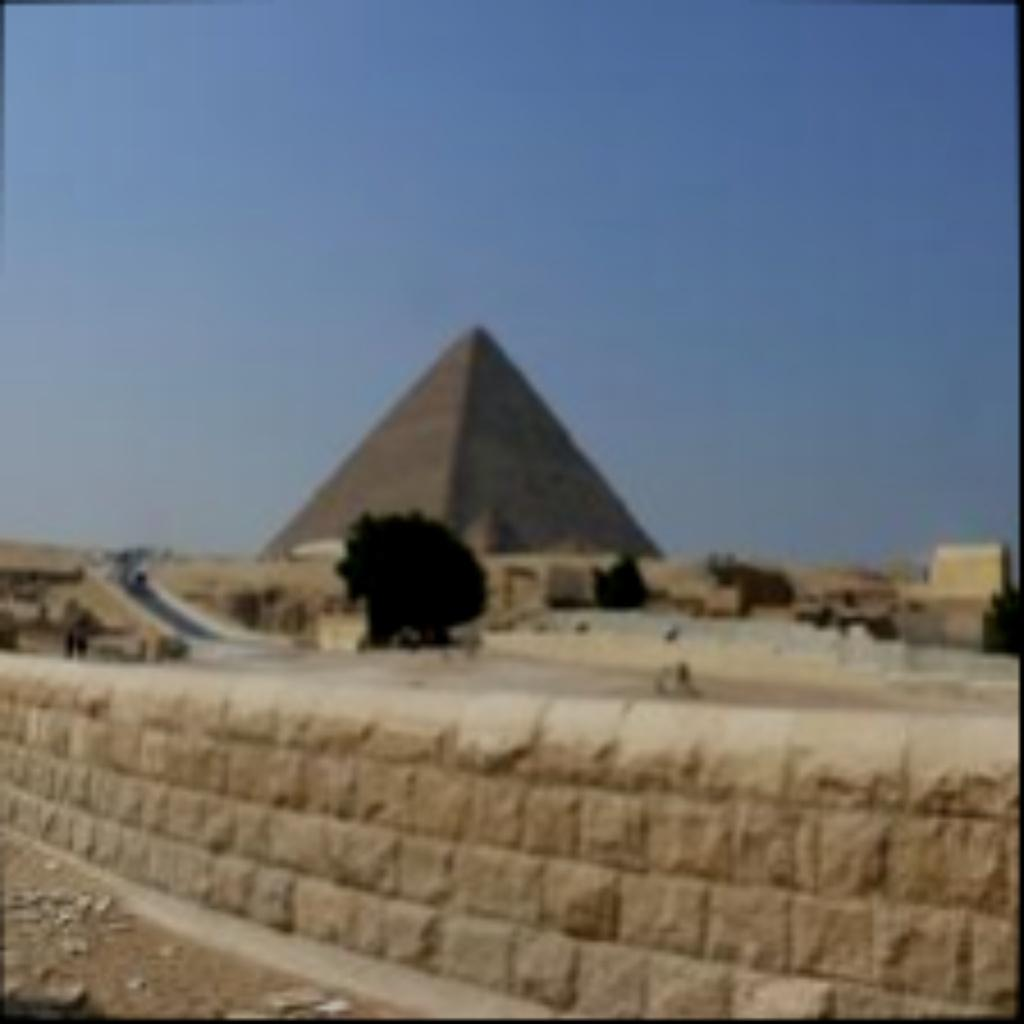Great Pyramids of Giza: (252, 320, 662, 562)
